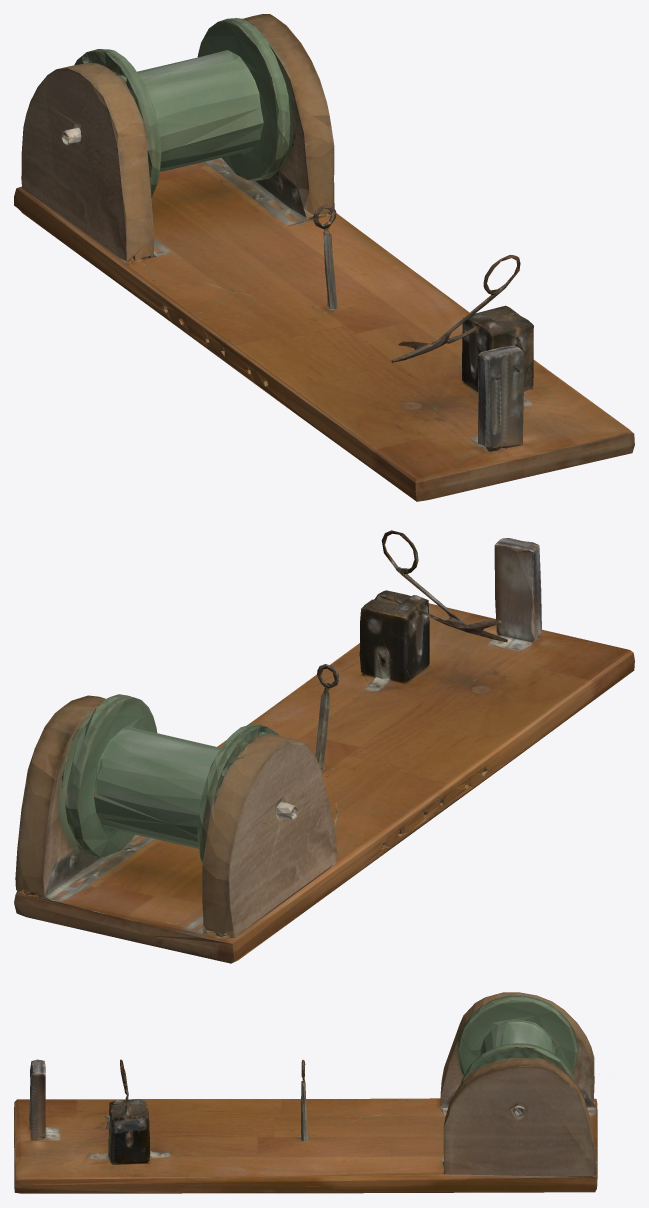
File: 5AB39DBC-F411-F040-A08C-394ED4A58582_512.glb
3 views of the same model, one above another, from view 1: azimuth 30°, elevation 25°; view 2: azimuth 150°, elevation 25°; view 3: azimuth 270°, elevation 25° (orthographic). The views are drawn at different scales.
Parts seen in each view (by area): view 1: Drahtschneidemaschine_9k_0.5k; view 2: Drahtschneidemaschine_9k_0.5k; view 3: Drahtschneidemaschine_9k_0.5k.
Part boxes in pixels (x1,y1,x2,y2): Drahtschneidemaschine_9k_0.5k: (14,14,634,501); Drahtschneidemaschine_9k_0.5k: (14,530,634,963); Drahtschneidemaschine_9k_0.5k: (14,992,597,1193).
Size of the model in its own units: 0.2502 by 0.2007 by 0.8243.
1 material, 1 textured.
